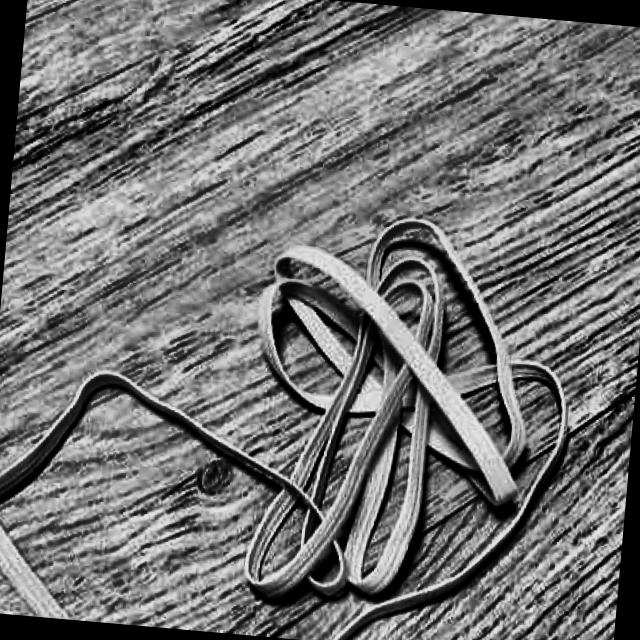Cable: (0, 178, 592, 640)
